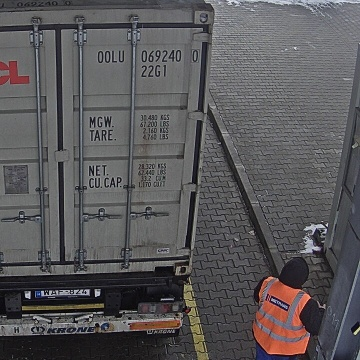serial_id: (97, 50, 198, 63)
